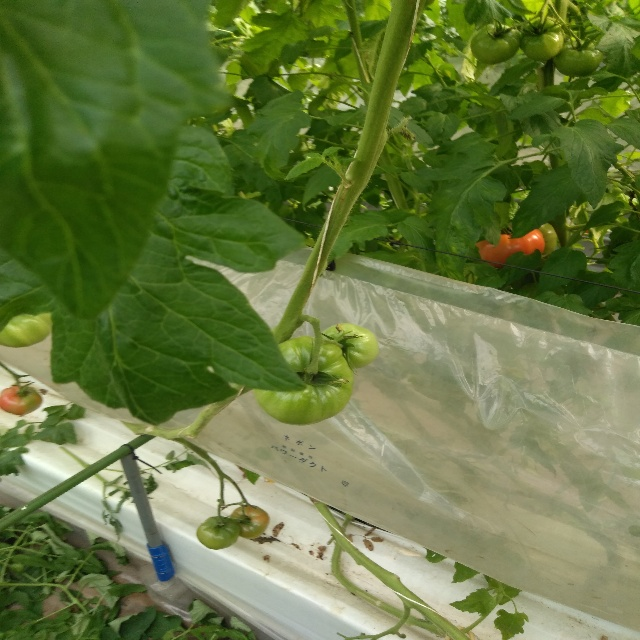b_green: (253, 336, 354, 426), (320, 322, 380, 370), (470, 23, 520, 65), (520, 17, 566, 62), (554, 40, 603, 78), (0, 313, 52, 348), (196, 516, 240, 550)
b_half_ripened: (475, 223, 545, 269), (228, 505, 270, 540), (0, 385, 42, 416)
